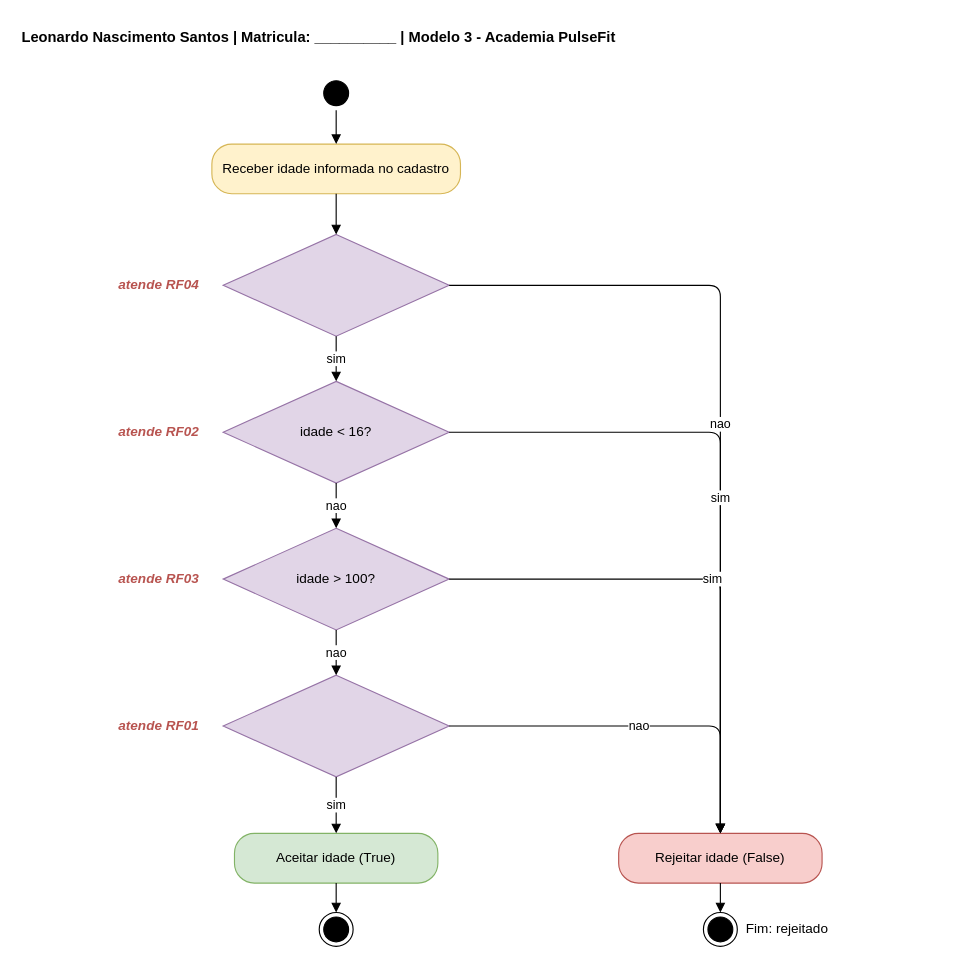
Some shapes in this 965 by 966 pixel diagram are drawn without their labels. The shapes that lost their labels are listed below. From the top down, each one's box as (x1, y1, x2, y2) in pixels, then its label:
(222, 233, 449, 336): E numero inteiro?
(222, 674, 449, 777): 16 <= idade <= 100?
(318, 911, 353, 946): Fim: aceito
